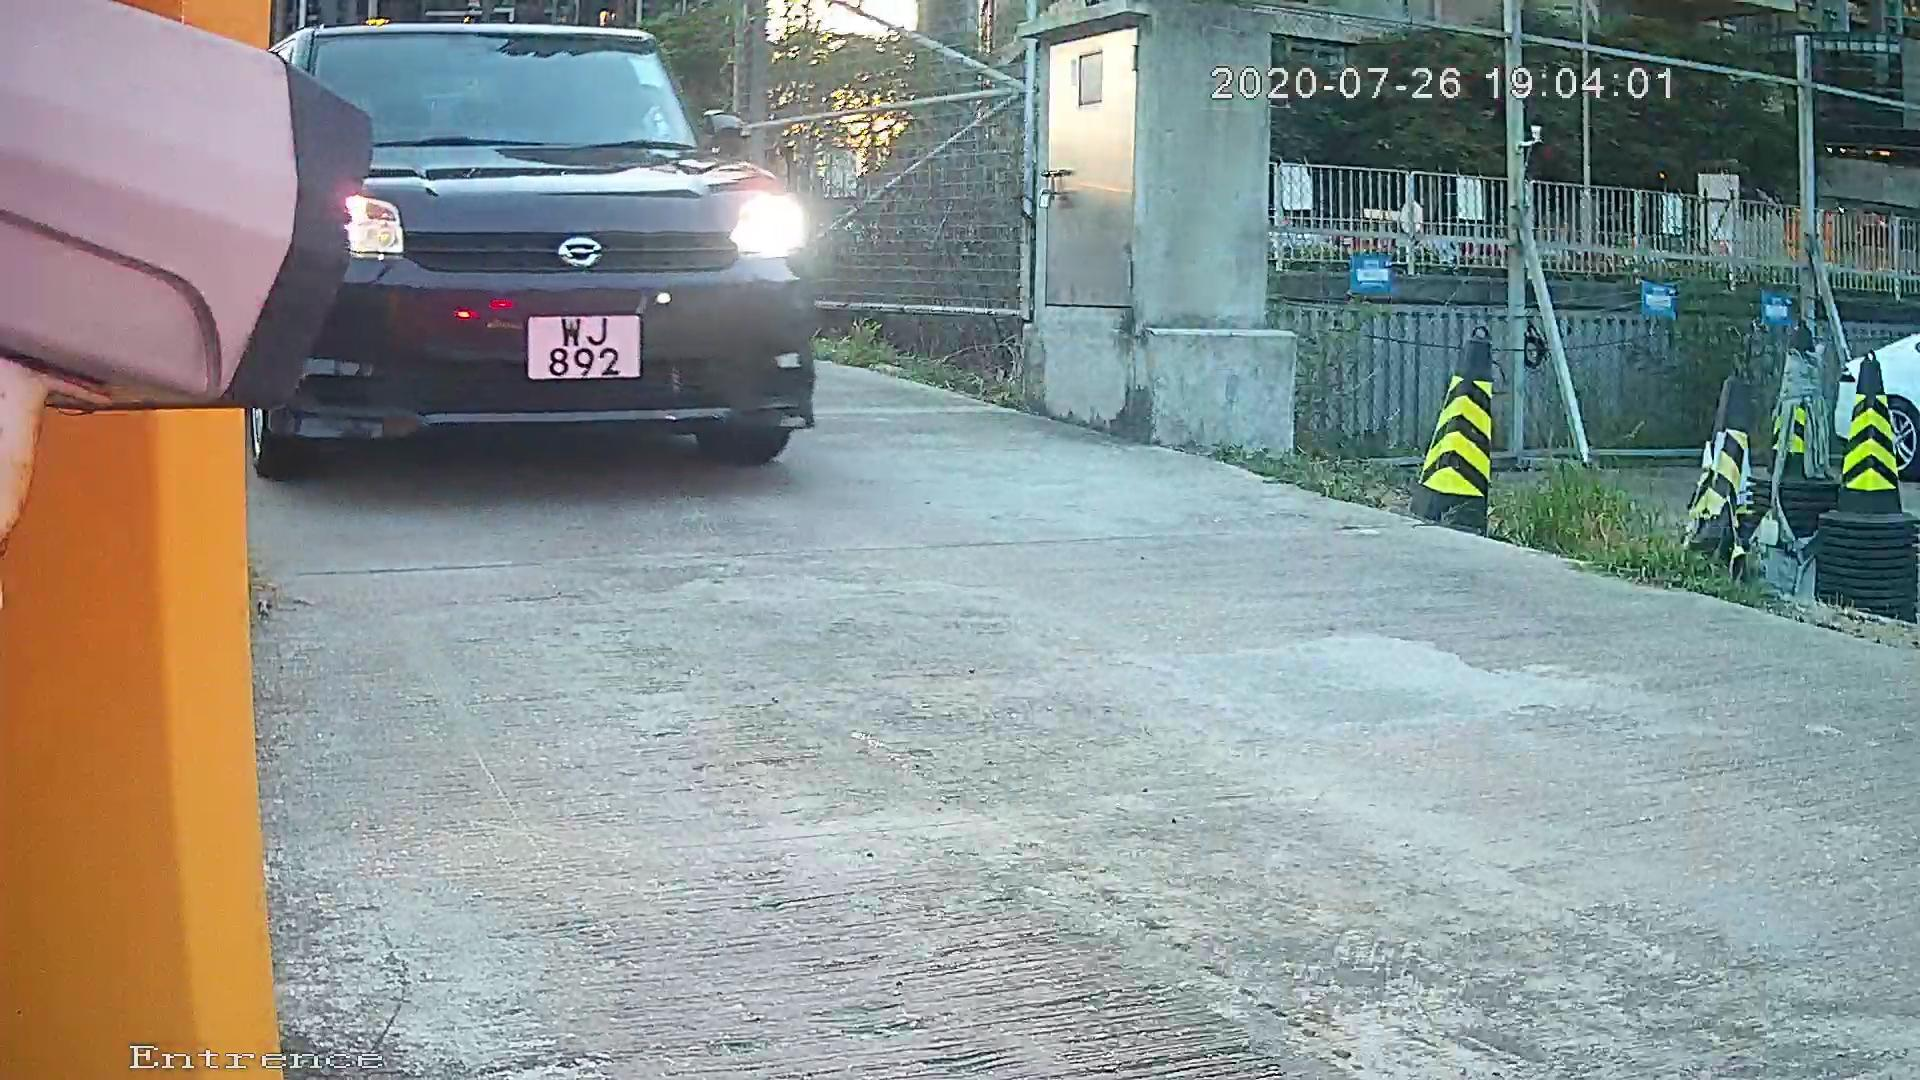License Plate: (498, 285, 635, 386)
